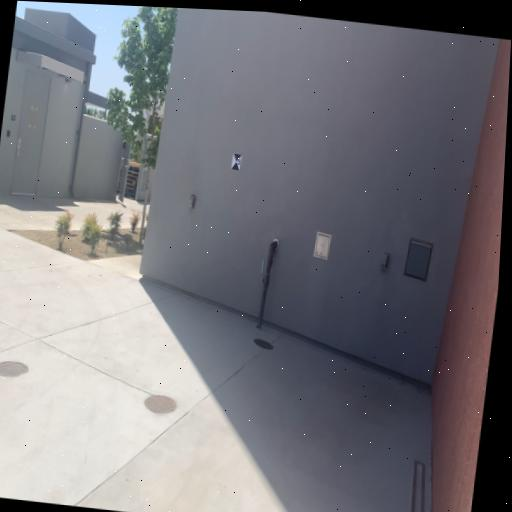target5: (231, 152, 242, 171)
